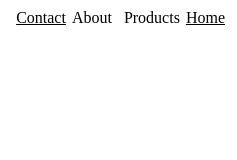
Test: Nav › opens toward the reading direction
This screenshot has width=237, height=160.
What coordinates should you click on to do the following:
click the button "Products"
I would click on:
 (152, 18)
Its box is [118,8,186,28].
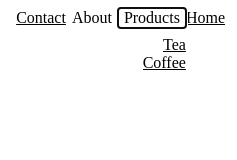
Expected: the button "Products" is expanded, [118,8,186,28]
